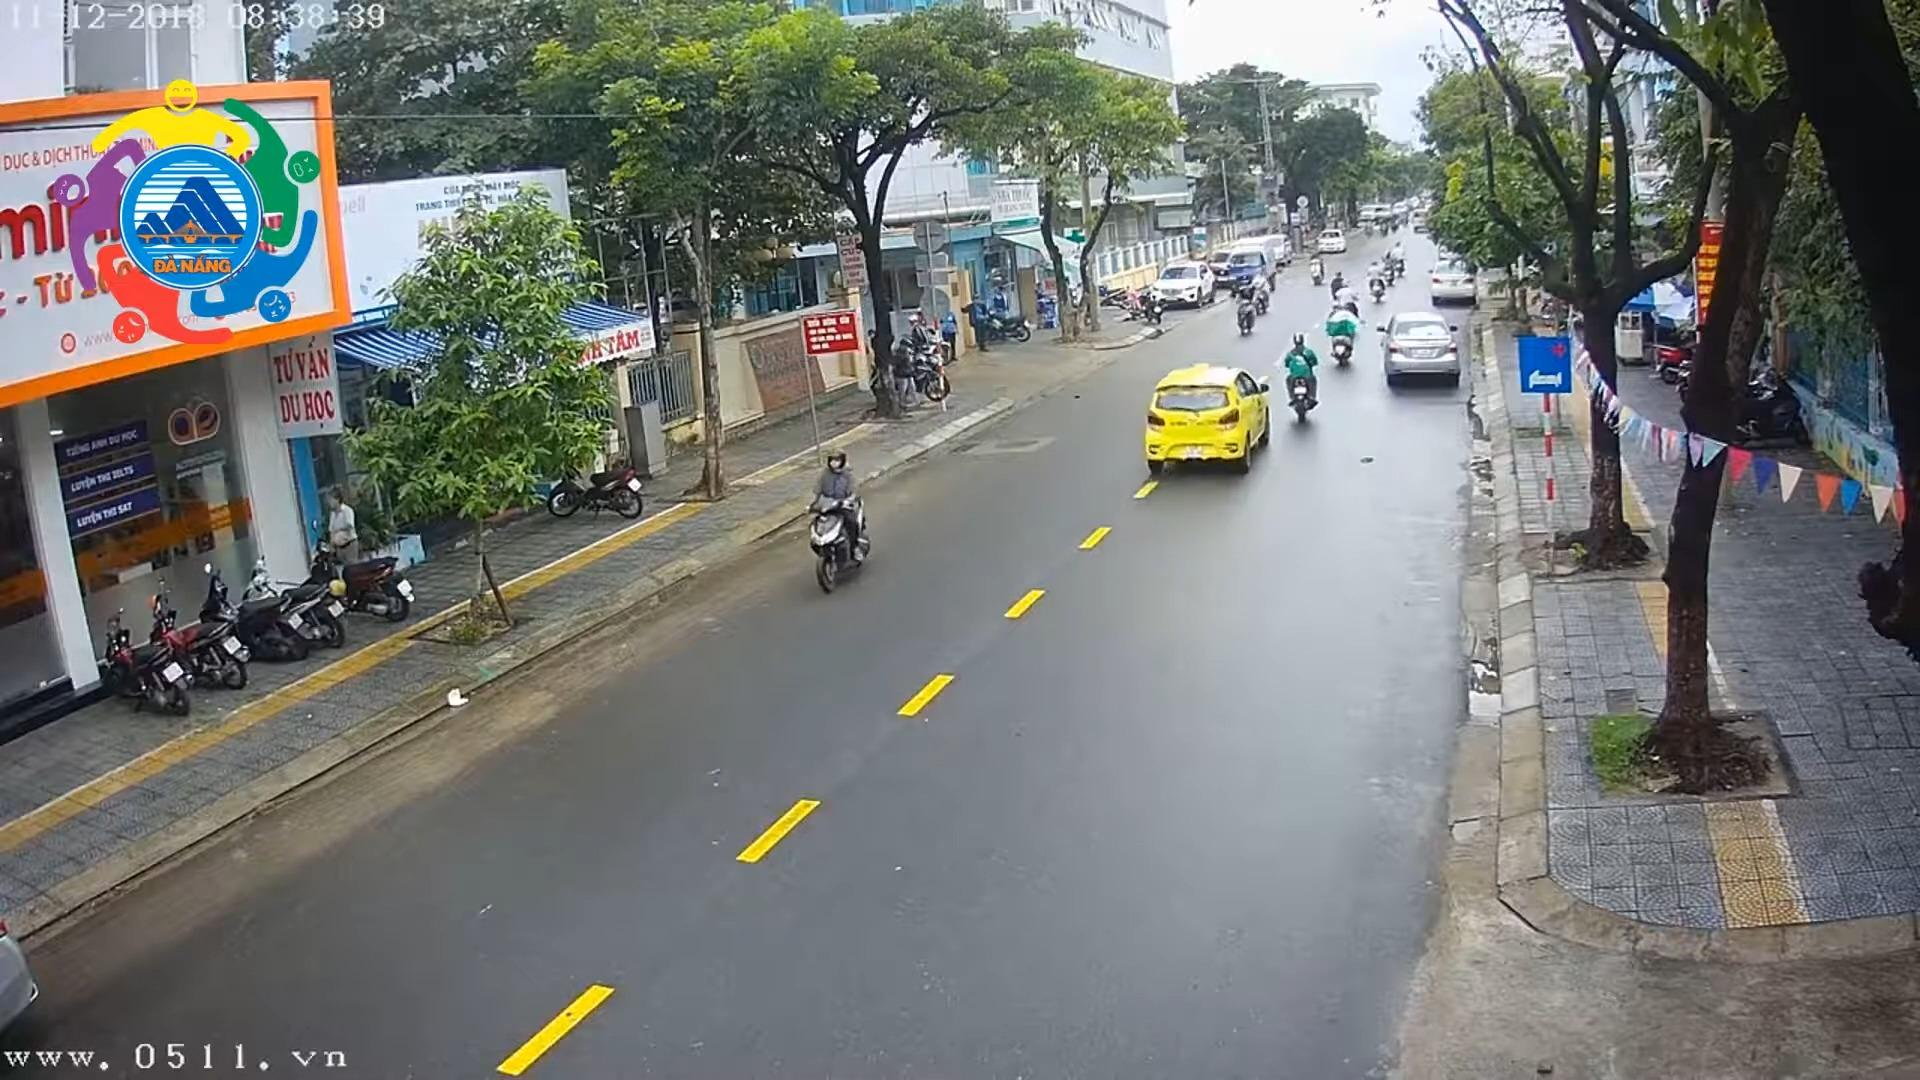car: (1145, 356, 1279, 480), (1378, 311, 1461, 381), (1151, 258, 1217, 310), (1423, 255, 1478, 307), (1315, 225, 1349, 255), (1411, 206, 1432, 233)
motorcycle: (802, 443, 884, 608), (136, 576, 252, 692), (199, 555, 313, 663), (95, 599, 191, 719), (243, 554, 348, 655), (302, 534, 413, 620), (543, 452, 645, 524), (869, 338, 951, 405), (1279, 326, 1321, 425), (1324, 299, 1367, 373), (975, 303, 1033, 347), (1230, 278, 1262, 344), (1360, 256, 1393, 311), (1250, 261, 1279, 318), (1335, 276, 1362, 332), (1390, 232, 1414, 280), (1307, 245, 1329, 291), (1379, 241, 1399, 290), (1331, 264, 1345, 302)
truck: (1228, 233, 1275, 298)
